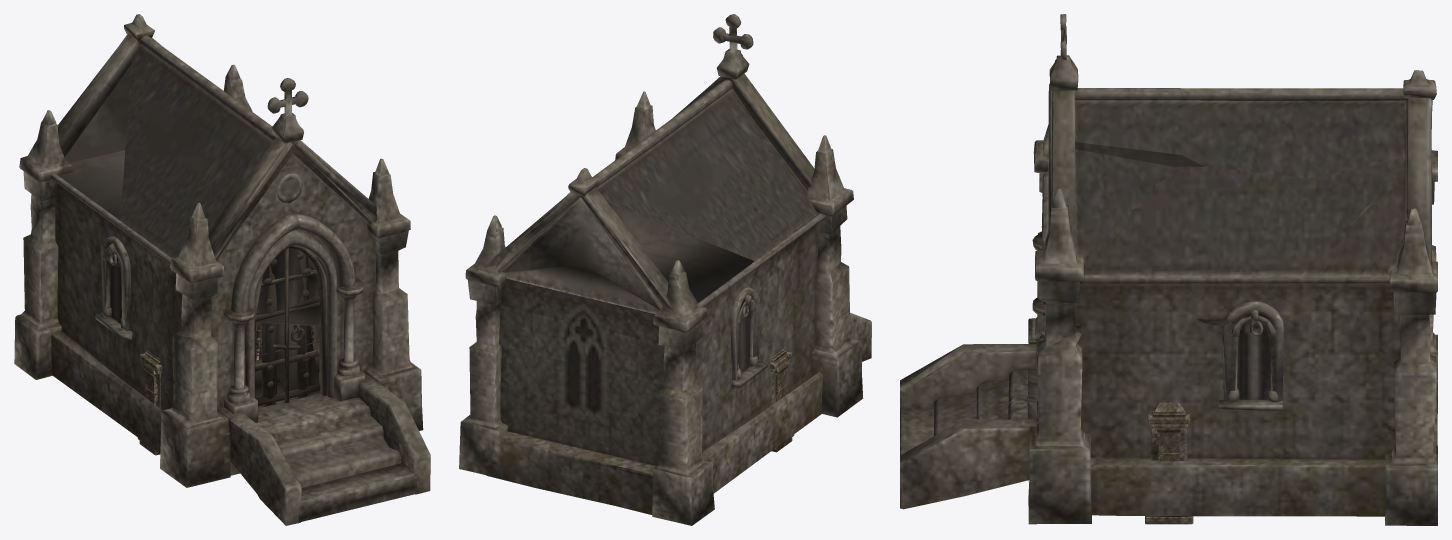
Rendered from graveyard.glb.
The picture shows the model from 3 angles, left to right: view 1: azimuth 30°, elevation 25°; view 2: azimuth 150°, elevation 25°; view 3: azimuth 270°, elevation 25°; orthographic projection. The views are drawn at different scales.
Visible parts, largest first — view 1: h_crypt, h_fence, h_fence_broken; view 2: h_crypt, h_fence, h_fence_broken; view 3: h_crypt, h_fence_broken, h_fence.
Part boxes in pixels (x1=…): h_crypt: x1=14, y1=14, x2=430, y2=525; h_fence: x1=139, y1=325, x2=313, y2=455; h_fence_broken: x1=137, y1=325, x2=311, y2=452; h_crypt: x1=459, y1=14, x2=871, y2=525; h_fence: x1=771, y1=361, x2=792, y2=452; h_fence_broken: x1=769, y1=348, x2=794, y2=449; h_crypt: x1=900, y1=14, x2=1437, y2=525; h_fence_broken: x1=1145, y1=402, x2=1193, y2=524; h_fence: x1=1149, y1=428, x2=1187, y2=524.
Bounding box in the file's own units: 4.84 × 7.41 × 8.
Materials: 15 (15 with a texture image).
